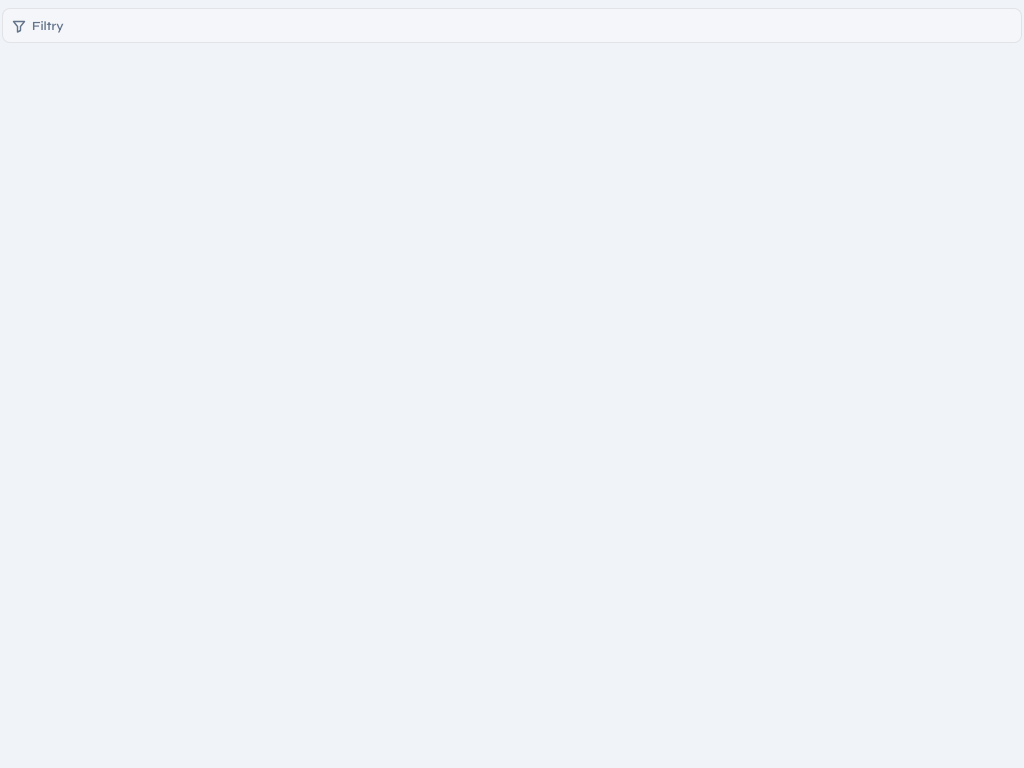
Test: FiltersPanel — panel typu drawer › brak wyników i stan błędu też pokazują estetyczną kartę z ikoną i pozwalają ponowić
Click the button "Filtry": {"x": 48, "y": 26} [2,8,1022,43]
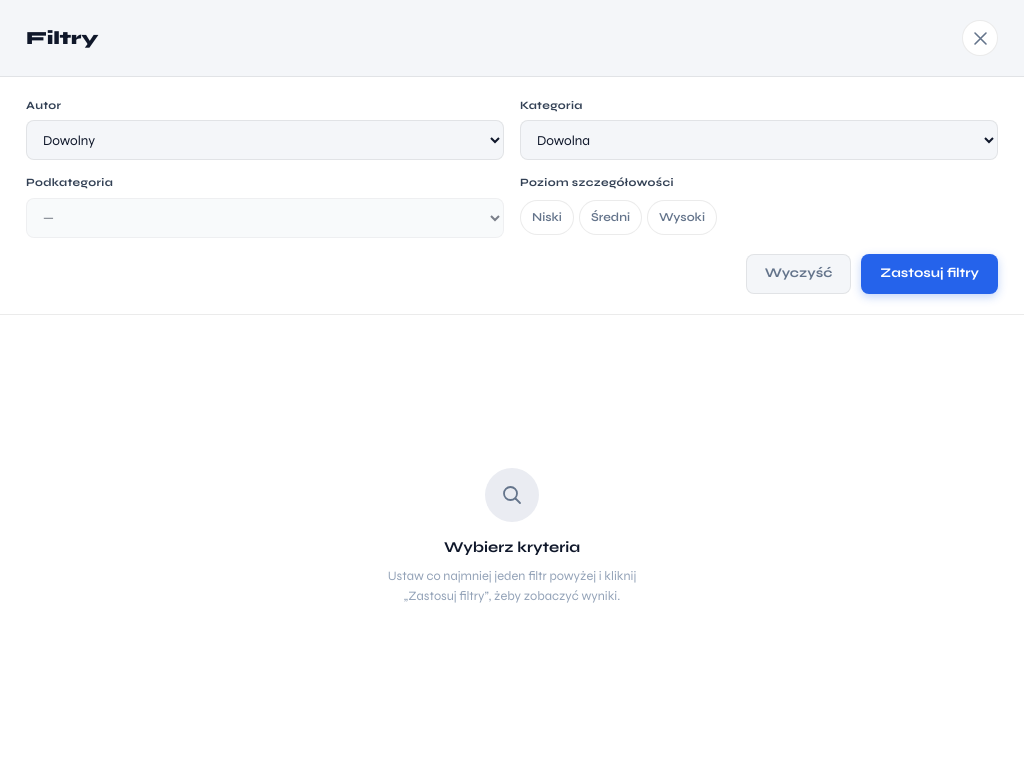
Expected: the dialog "Filtry" is shown
Select "Ala" in the dropdown with class "sop-select" below "Autor": {"x": 265, "y": 140} [26,120,504,160]
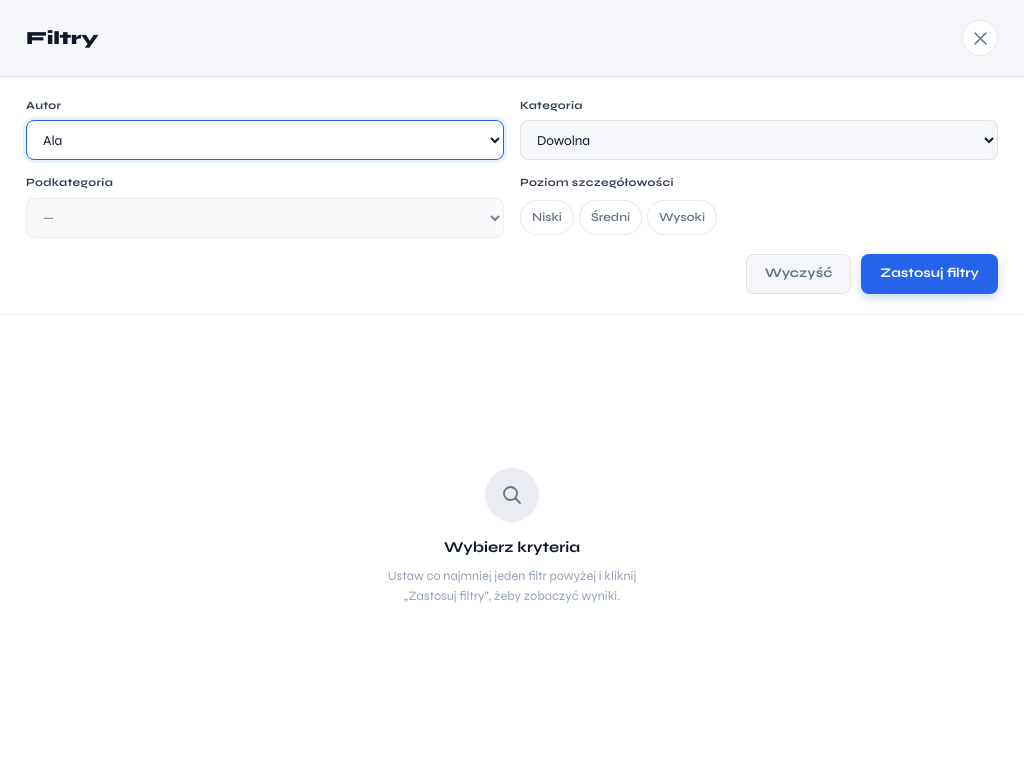
Click the button "Zastosuj filtry": {"x": 930, "y": 274} [861,254,998,294]
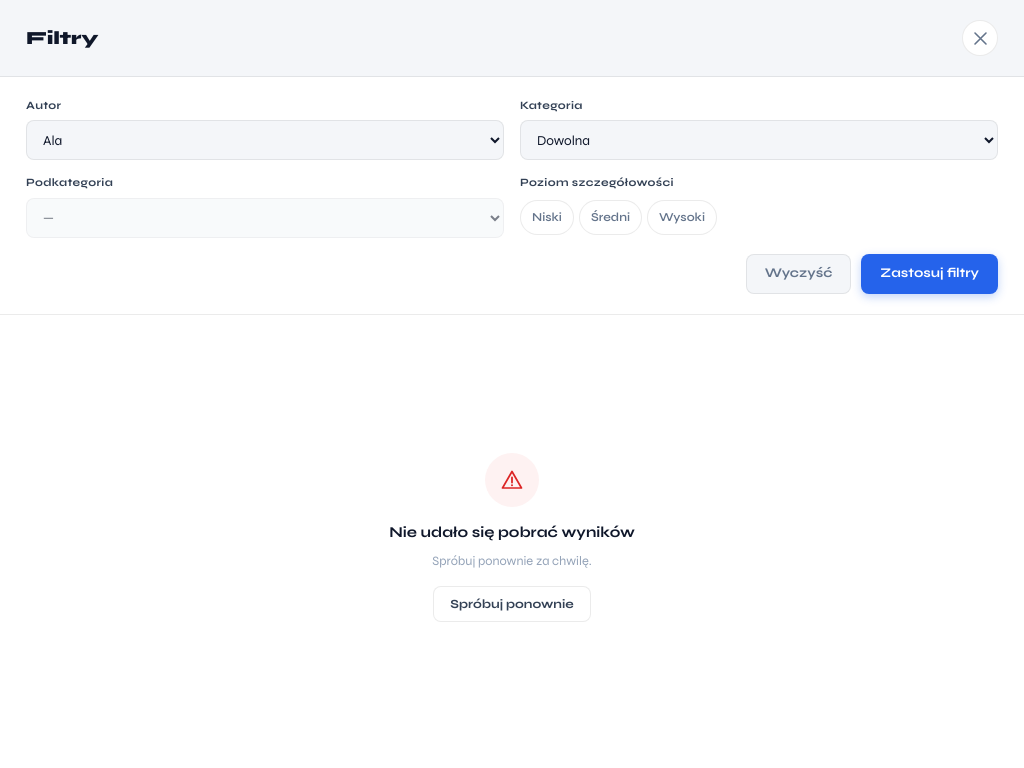
Expected: the text "Nie udało się pobrać wyników" is shown, [389,521,635,544]
Expected: the element with class "sop-empty--error" is shown, [389,453,635,622]
Click the button "Spróbuj ponownie": {"x": 512, "y": 604} [433,586,591,622]
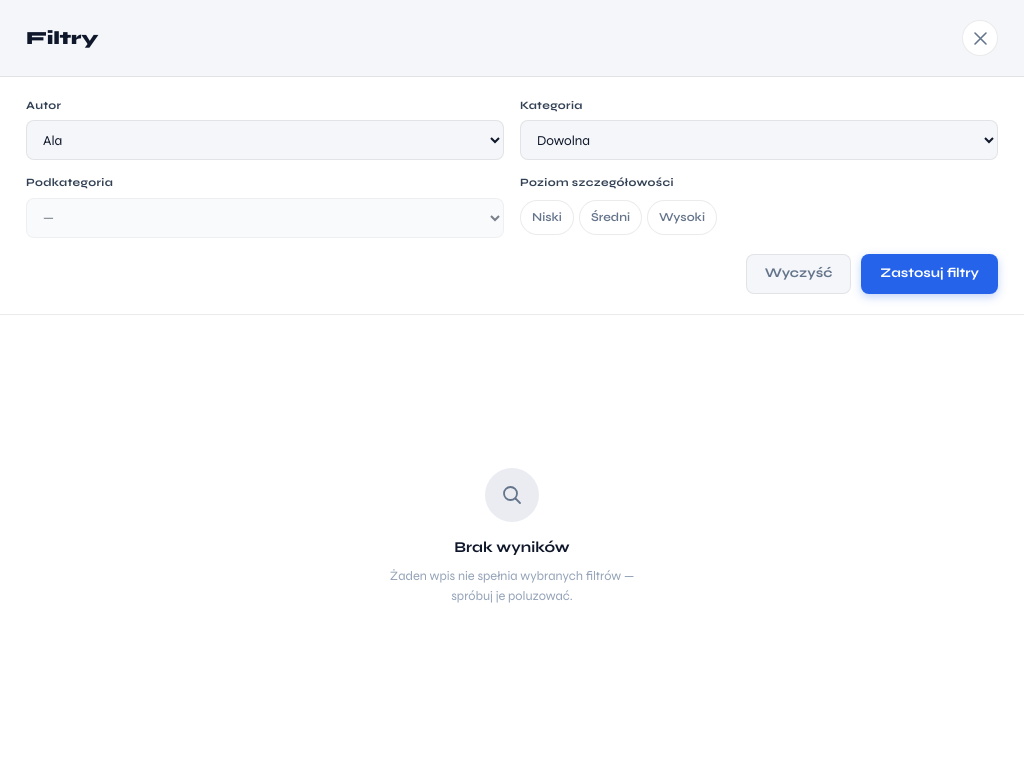
Expected: the element with class "sop-empty" is shown, [390,468,634,604]
Expected: the text "Brak wyników" is shown, [454,536,570,559]
